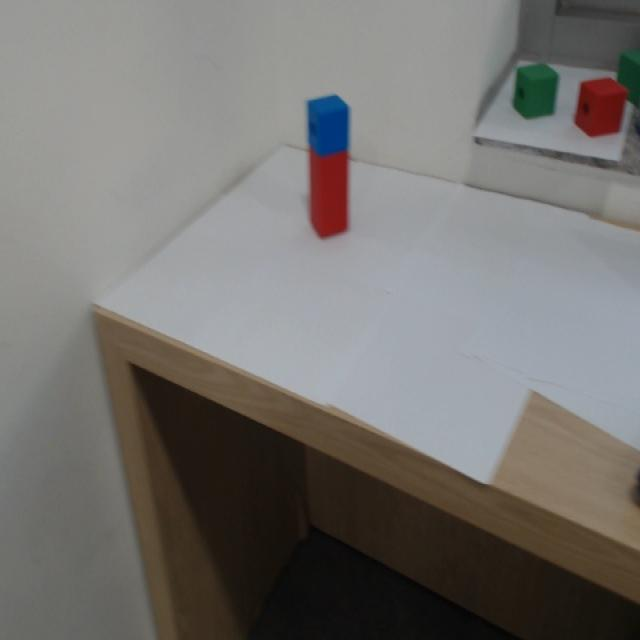cube: (296, 85, 364, 149)
